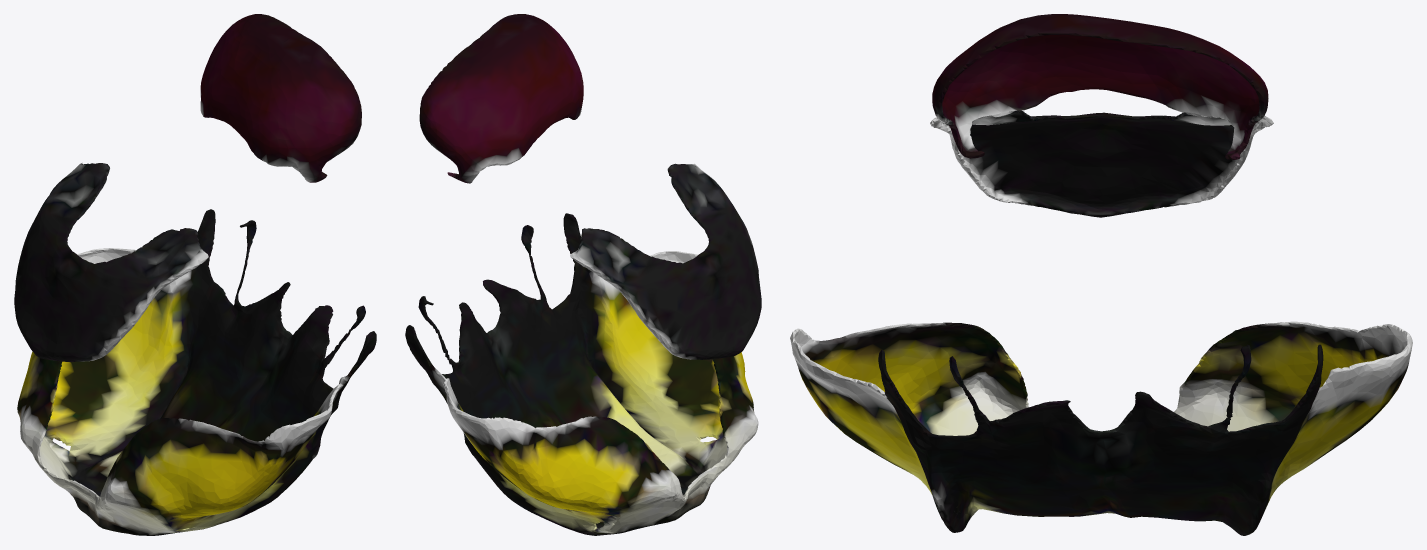
Rendered from boozebottle_empty.glb.
The picture shows the model from 3 angles, left to right: view 1: azimuth 30°, elevation 25°; view 2: azimuth 150°, elevation 25°; view 3: azimuth 270°, elevation 25°; orthographic projection. The views are drawn at different scales.
Parts seen in each view (by area): view 1: geometry_0; view 2: geometry_0; view 3: geometry_0.
Part boxes in pixels (x1,y1,x2,y2): geometry_0: (14,14,376,535); geometry_0: (405,14,761,535); geometry_0: (790,14,1412,535).
Size of the model in its own units: 0.3123 by 0.4688 by 0.4462.
